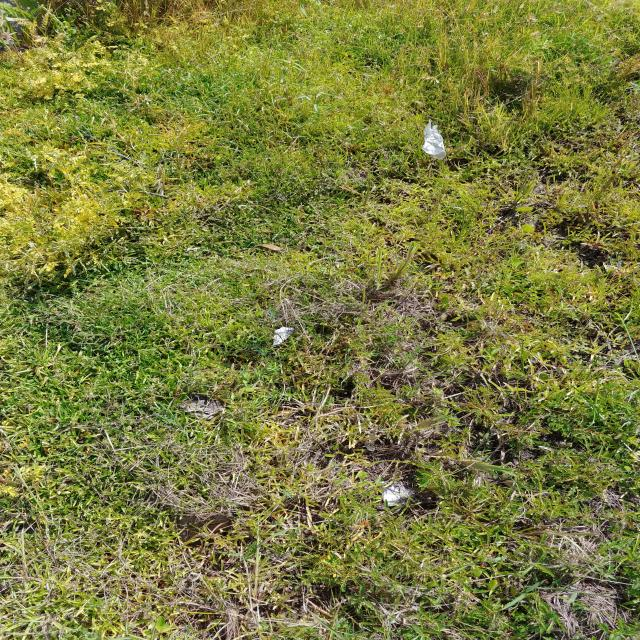litter: (422, 121, 446, 159), (378, 481, 412, 502), (273, 326, 294, 345)
